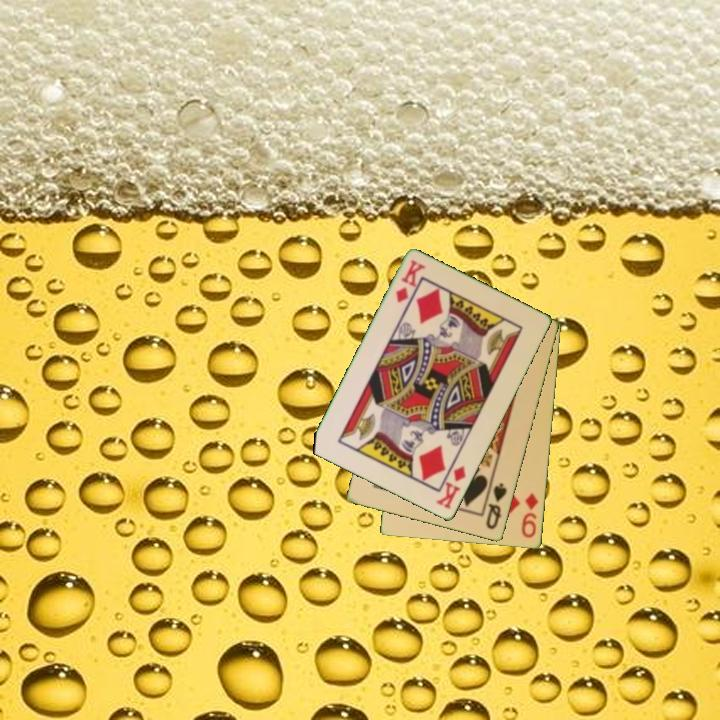9d: (518, 490, 541, 541)
Kd: (432, 462, 469, 512), (392, 257, 428, 306)
Qs: (483, 480, 510, 532)
